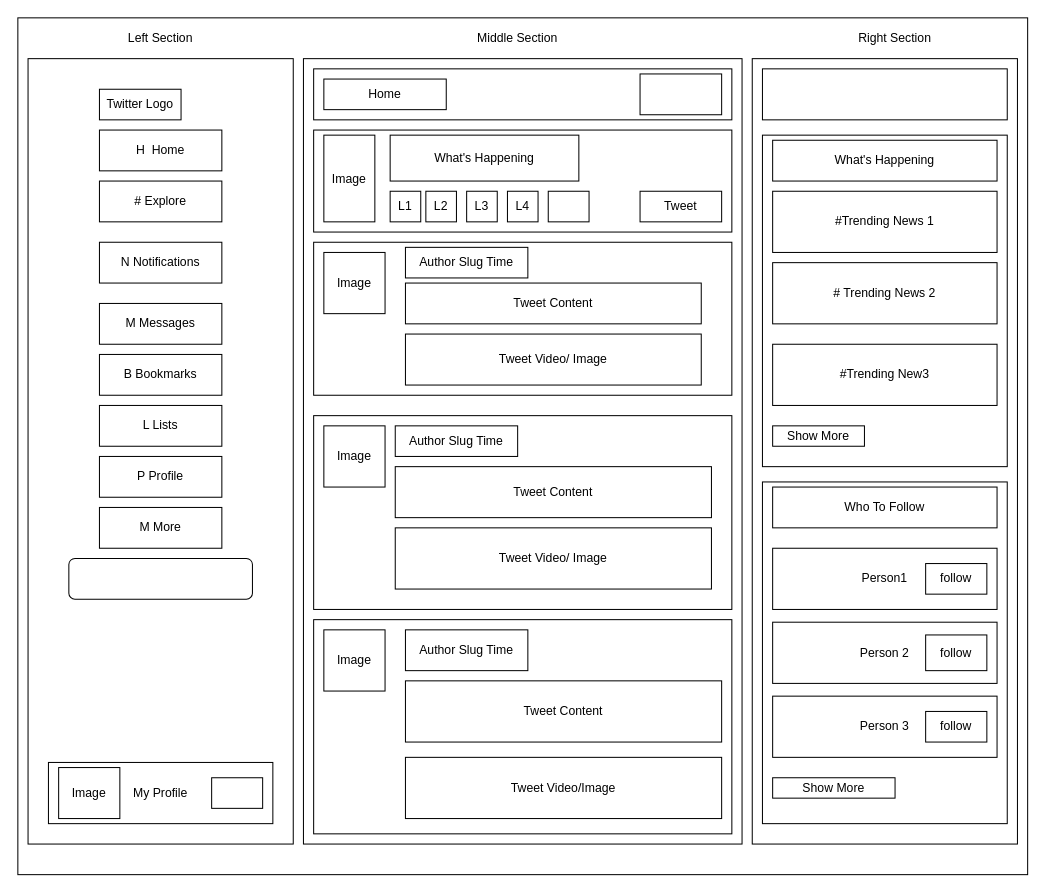
This 1046x893 diagram has some shape labels left out. Here are the shapes that lost their labels. From the top down, the centre of each, then its label:
the point at 680,94: Star Logo
the point at 884,94: Twitter Search
the point at 568,206: L5
the point at 160,578: Tweet Button
the point at 237,792: three dots
